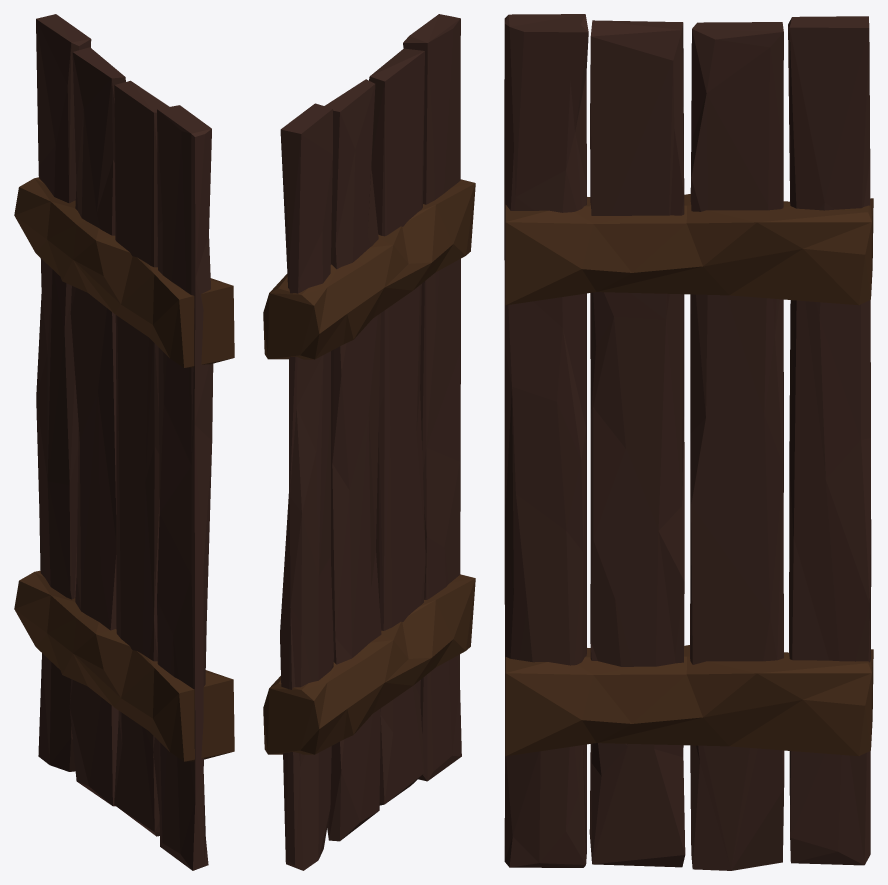
The model's file is DarkRedWoodDoor.fbx.
The picture shows the model from 3 angles, left to right: view 1: azimuth 30°, elevation 25°; view 2: azimuth 150°, elevation 25°; view 3: azimuth 270°, elevation 25°; orthographic projection. The views are drawn at different scales.
Visible parts, largest first — view 1: Frame01.031, Frame01.032, Frame01.033, Frame01.034, Frame01.035, Frame01.036; view 2: Frame01.034, Frame01.033, Frame01.032, Frame01.031, Frame01.036, Frame01.035; view 3: Frame01.032, Frame01.033, Frame01.031, Frame01.034, Frame01.035, Frame01.036.
Boxes of the visible parts, <box> form: Frame01.031: <box>157,105,213,870</box>; Frame01.032: <box>114,80,169,836</box>; Frame01.033: <box>69,47,125,806</box>; Frame01.034: <box>36,14,91,771</box>; Frame01.035: <box>14,570,234,761</box>; Frame01.036: <box>14,177,234,367</box>; Frame01.034: <box>280,103,333,870</box>; Frame01.033: <box>325,79,381,841</box>; Frame01.032: <box>369,48,425,805</box>; Frame01.031: <box>403,14,461,781</box>; Frame01.036: <box>263,179,475,359</box>; Frame01.035: <box>263,574,475,754</box>; Frame01.032: <box>589,20,685,867</box>; Frame01.033: <box>690,22,784,870</box>; Frame01.031: <box>504,14,588,867</box>; Frame01.034: <box>788,16,871,865</box>; Frame01.035: <box>505,645,873,756</box>; Frame01.036: <box>505,194,873,305</box>.
Bounding box in the file's own units: 51.28 × 568 × 225.
